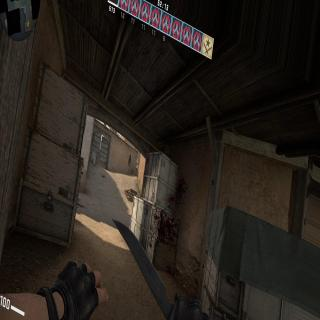CT-Body: (128, 154, 130, 166)
CT-Head: (130, 154, 130, 156)
